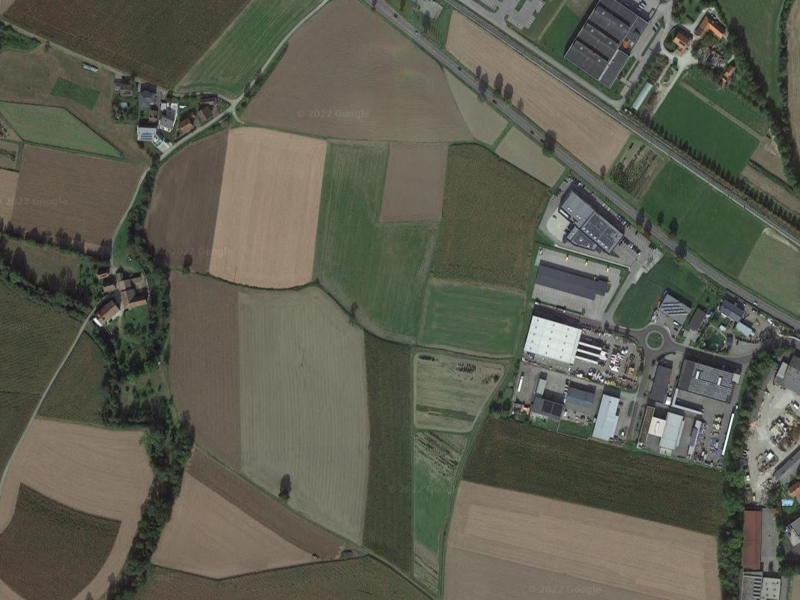field: (363, 331, 412, 576)
